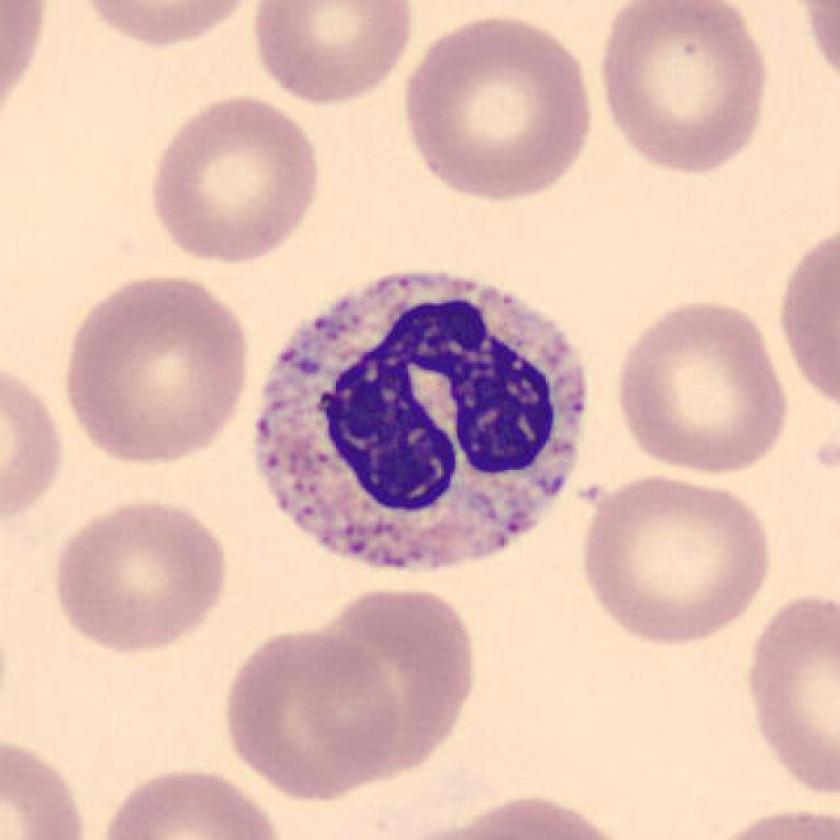neutrophil: (255, 269, 587, 575)
